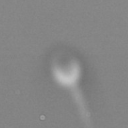normal: (70, 86, 95, 127)
